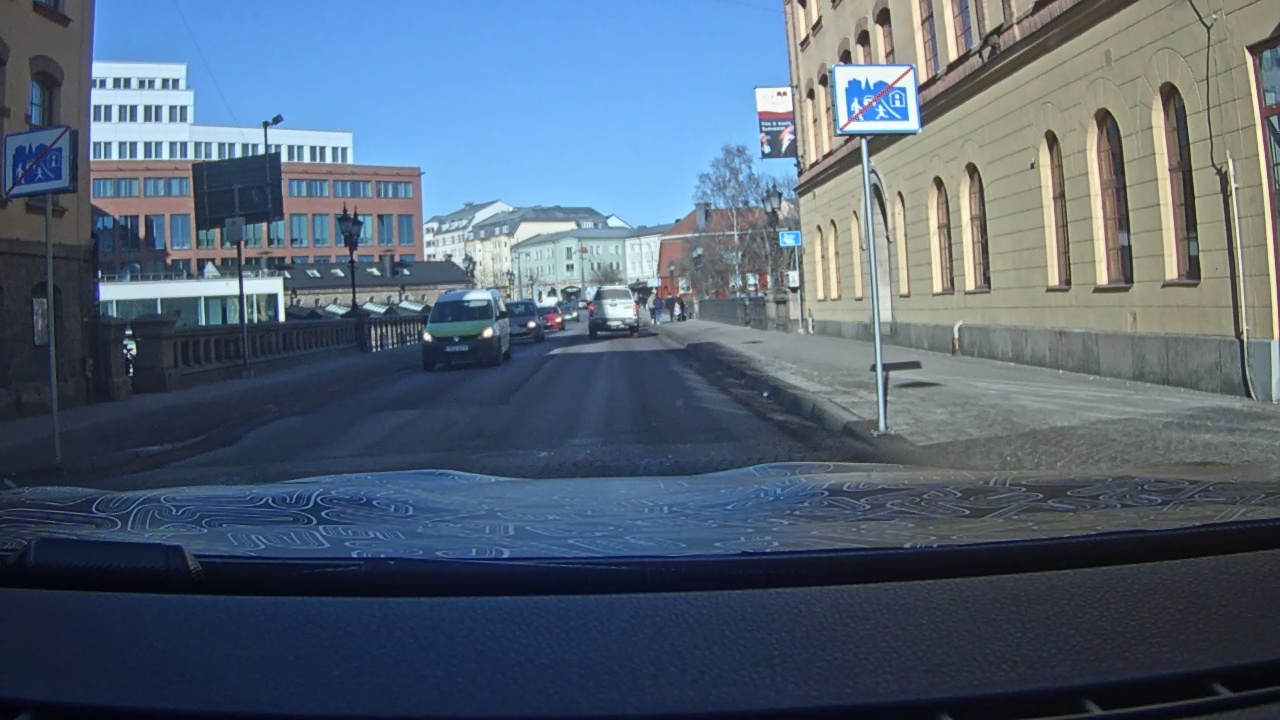End_Of_Playground_Residential_Area: (830, 63, 922, 134)
